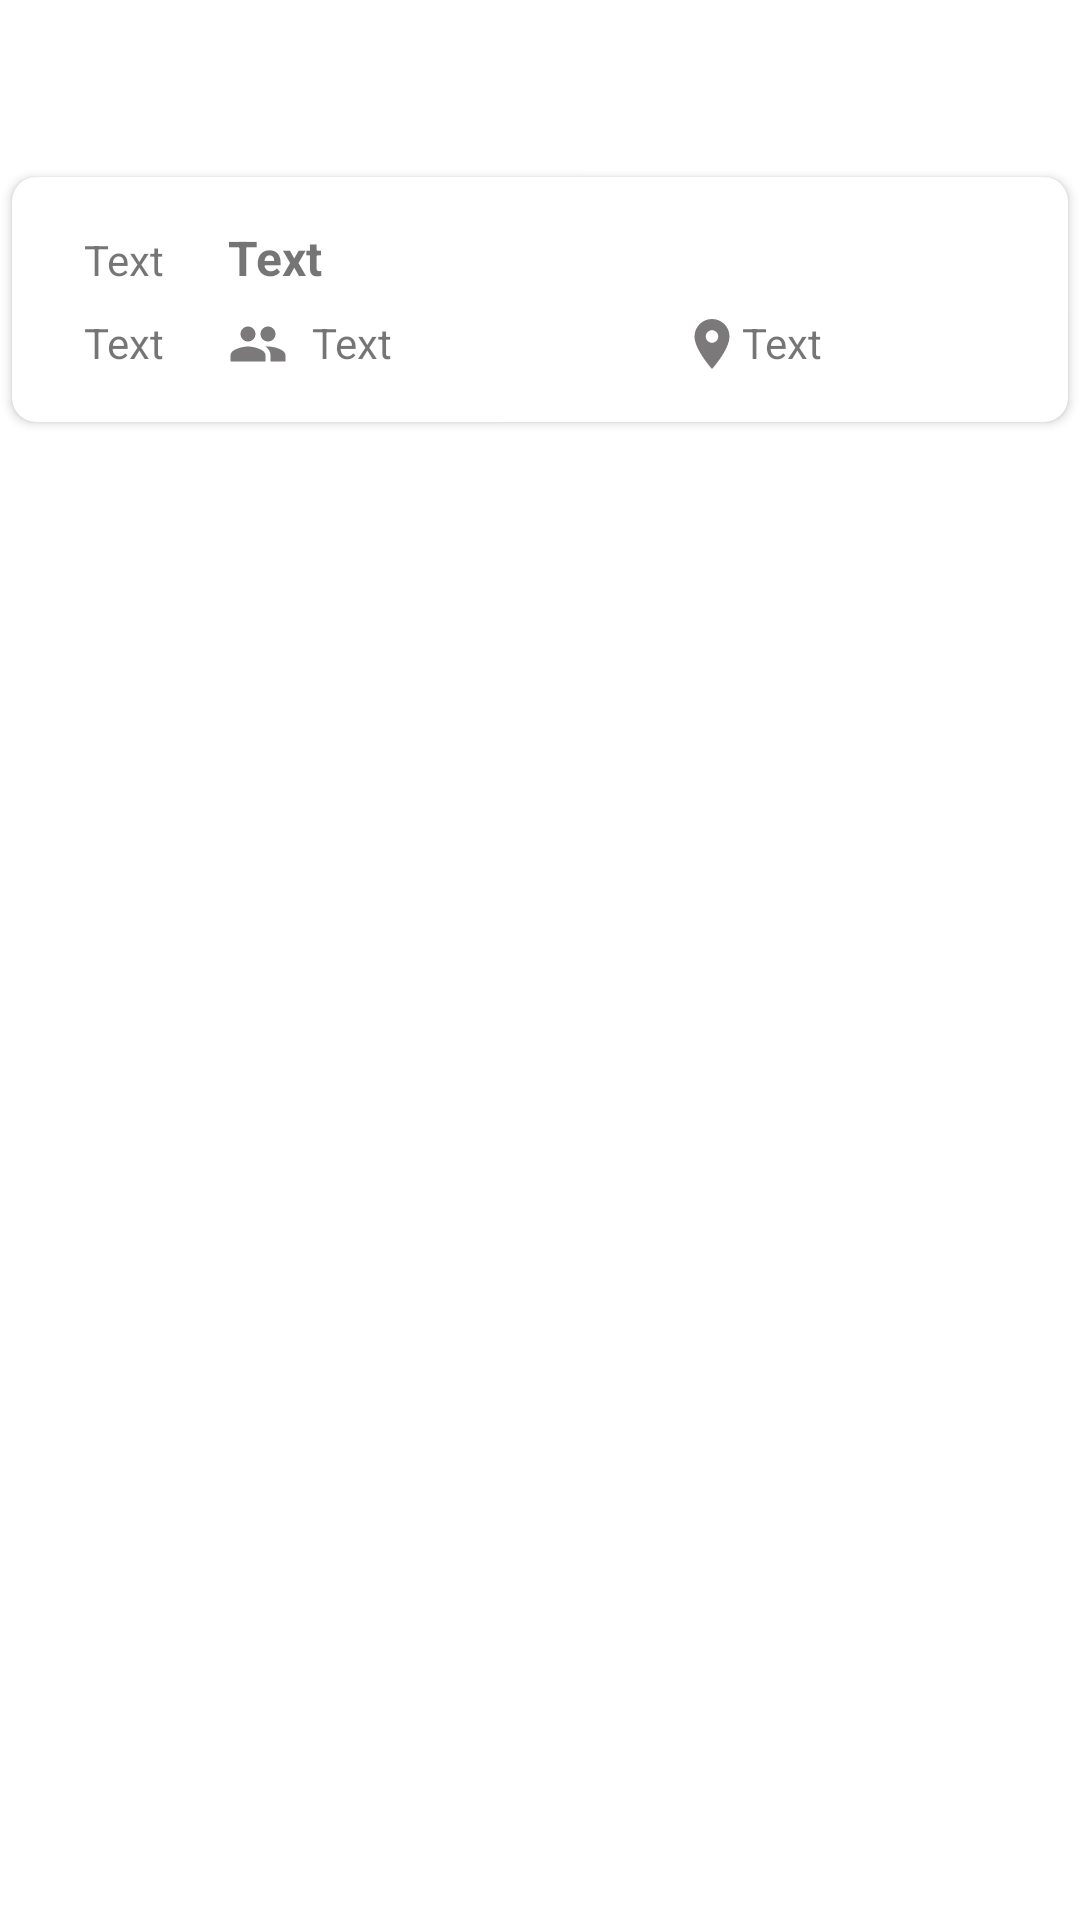

Icon bounding boxes for this 1080px x 1920px phone screenshot, format bbox(x1, y1, x2, y2):
location on: bbox(694, 319, 730, 369)
